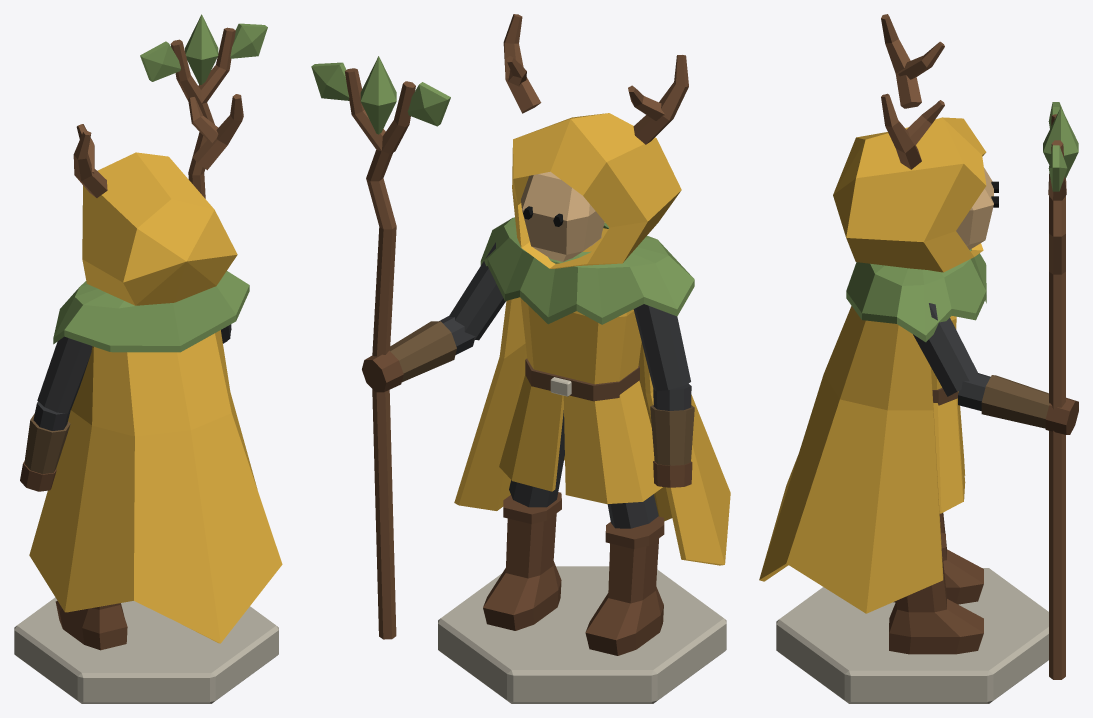
Rendered from human_druid_t5.glb.
3 renders of one model, left to right at view 1: azimuth 30°, elevation 25°; view 2: azimuth 150°, elevation 25°; view 3: azimuth 270°, elevation 25°, orthographic. The views are drawn at different scales.
Parts seen in each view (by area): view 1: Druid_Long_Three_Leaf_Tip_Cape, Foundation_Hexagonal_Stone, Pointed_Open_Hood_Shell, One_Connected_Green_Leaf_Mantle, left_upper_sleeve, Boot_-1, left_bracer, Druid_One_Green_Seed_Stone, Right_Two_End_Antler_Main, Left_Two_End_Antler_Main, Druid_Right_Fork, Druid_Left_Broad_Staff_Leaf (+6 smaller); view 2: Foundation_Hexagonal_Stone, Pointed_Open_Hood_Shell, Druid_Long_Three_Leaf_Tip_Cape, One_Connected_Green_Leaf_Mantle, Druid_One_Crooked_Oak_Staff_Shaft, Continuous_Tunic_Bodice, Continuous_Split_Tunic_Skirt, Boot_1, Boot_-1, Angular_Face, Split_Tunic_Front_1, Split_Tunic_Front_-1 (+19 smaller); view 3: Druid_Long_Three_Leaf_Tip_Cape, Foundation_Hexagonal_Stone, Pointed_Open_Hood_Shell, One_Connected_Green_Leaf_Mantle, Druid_One_Crooked_Oak_Staff_Shaft, Boot_1, right_upper_sleeve, Continuous_Split_Tunic_Skirt, right_bracer, Boot_-1, Left_Two_End_Antler_Main, Angular_Face (+7 smaller).
Part boxes in pixels (x1=…): Druid_Long_Three_Leaf_Tip_Cape: x1=29, y1=330, x2=282, y2=643; Foundation_Hexagonal_Stone: x1=14, y1=597, x2=278, y2=703; Pointed_Open_Hood_Shell: x1=82, y1=152, x2=237, y2=305; One_Connected_Green_Leaf_Mantle: x1=53, y1=271, x2=249, y2=352; left_upper_sleeve: x1=37, y1=336, x2=92, y2=413; Boot_-1: x1=55, y1=601, x2=127, y2=650; left_bracer: x1=24, y1=413, x2=70, y2=474; Druid_One_Green_Seed_Stone: x1=185, y1=14, x2=218, y2=85; Right_Two_End_Antler_Main: x1=192, y1=94, x2=243, y2=170; Left_Two_End_Antler_Main: x1=73, y1=130, x2=107, y2=197; Druid_Right_Fork: x1=198, y1=27, x2=235, y2=103; Druid_Left_Broad_Staff_Leaf: x1=140, y1=41, x2=180, y2=81; Foundation_Hexagonal_Stone: x1=438, y1=566, x2=726, y2=703; Pointed_Open_Hood_Shell: x1=512, y1=113, x2=681, y2=268; Druid_Long_Three_Leaf_Tip_Cape: x1=454, y1=297, x2=730, y2=565; One_Connected_Green_Leaf_Mantle: x1=480, y1=217, x2=694, y2=324; Druid_One_Crooked_Oak_Staff_Shaft: x1=366, y1=150, x2=396, y2=639; Continuous_Tunic_Bodice: x1=520, y1=298, x2=641, y2=384; Continuous_Split_Tunic_Skirt: x1=499, y1=375, x2=662, y2=503; Boot_1: x1=483, y1=513, x2=561, y2=630; Boot_-1: x1=585, y1=538, x2=663, y2=655; Angular_Face: x1=521, y1=171, x2=604, y2=261; Split_Tunic_Front_1: x1=511, y1=386, x2=563, y2=491; Split_Tunic_Front_-1: x1=563, y1=395, x2=607, y2=504; Druid_Long_Three_Leaf_Tip_Cape: x1=759, y1=306, x2=943, y2=613; Foundation_Hexagonal_Stone: x1=776, y1=568, x2=1048, y2=703; Pointed_Open_Hood_Shell: x1=833, y1=117, x2=986, y2=272; One_Connected_Green_Leaf_Mantle: x1=846, y1=249, x2=986, y2=342; Druid_One_Crooked_Oak_Staff_Shaft: x1=1049, y1=196, x2=1065, y2=679; Boot_1: x1=889, y1=558, x2=983, y2=654; right_upper_sleeve: x1=913, y1=303, x2=978, y2=396; Continuous_Split_Tunic_Skirt: x1=933, y1=399, x2=963, y2=513; right_bracer: x1=981, y1=375, x2=1049, y2=428; Boot_-1: x1=893, y1=513, x2=983, y2=604; Left_Two_End_Antler_Main: x1=881, y1=14, x2=921, y2=108; Angular_Face: x1=956, y1=168, x2=993, y2=249.
Size of the model in its own units: 1.19 by 2.19 by 1.04.
